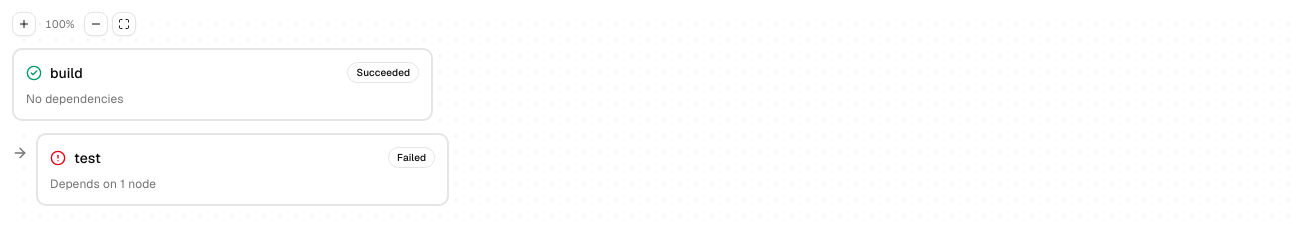
Test: GraphView › offers real, functional zoom controls that change the rendered scale
Click the button named "Zoom in": (24, 24) [12, 12, 36, 36]
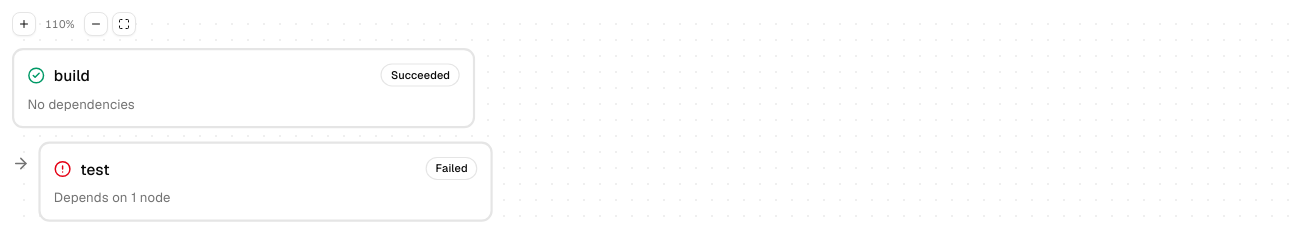
Expected: the text "110%" is shown, [45, 17, 75, 31]
Click the button named "Zoom out": (96, 24) [84, 12, 108, 36]
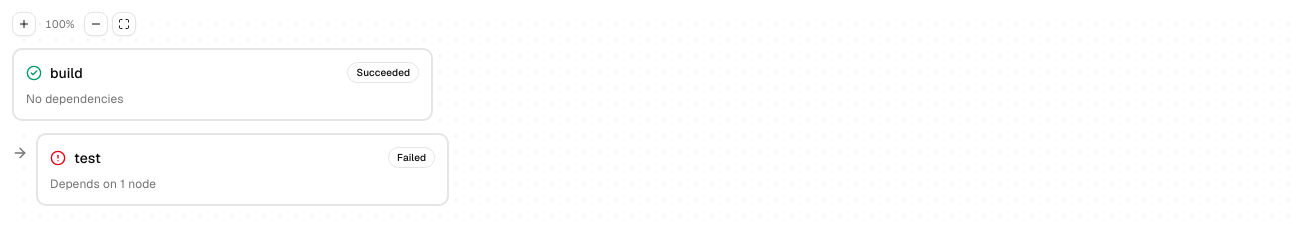
Click the button named "Zoom out": (96, 24) [84, 12, 108, 36]
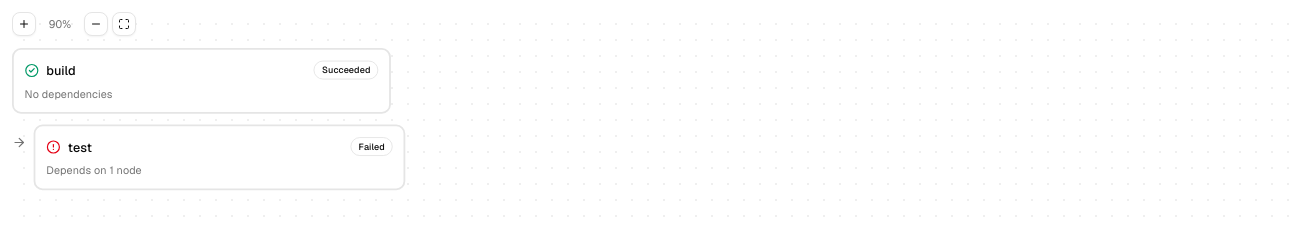
Click the button named "Fit to view": (124, 24) [112, 12, 136, 36]
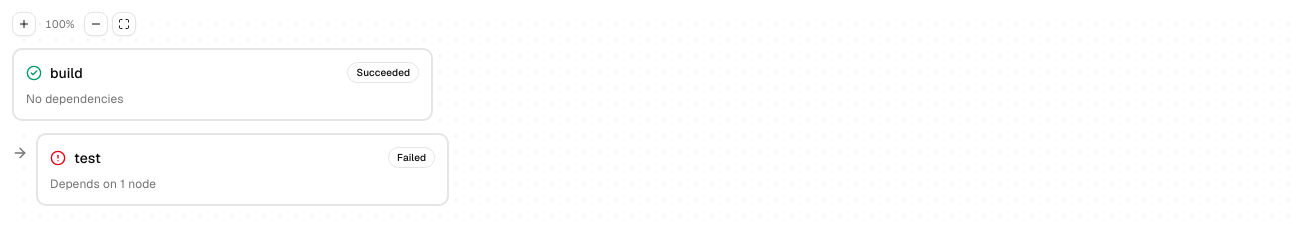
Expected: the text "100%" is shown, [45, 17, 75, 31]
